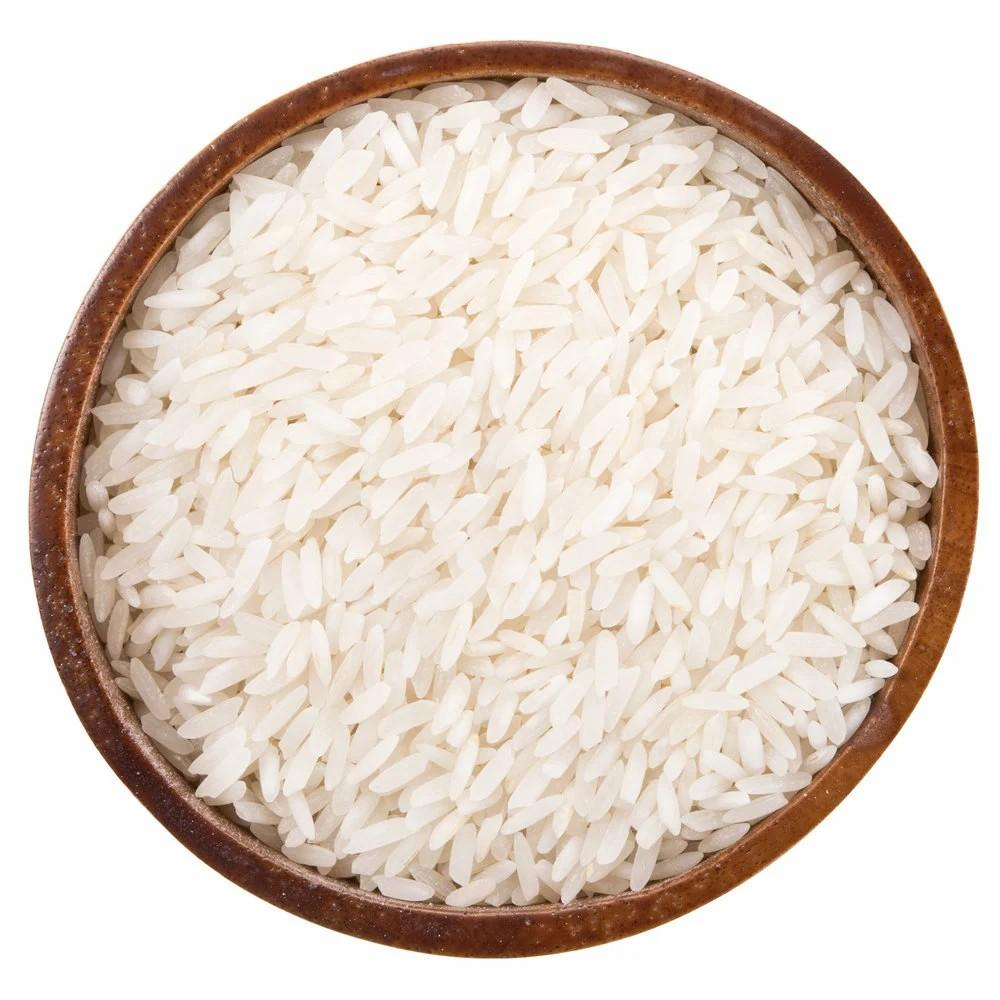WhiteRice: (88, 62, 918, 938)
